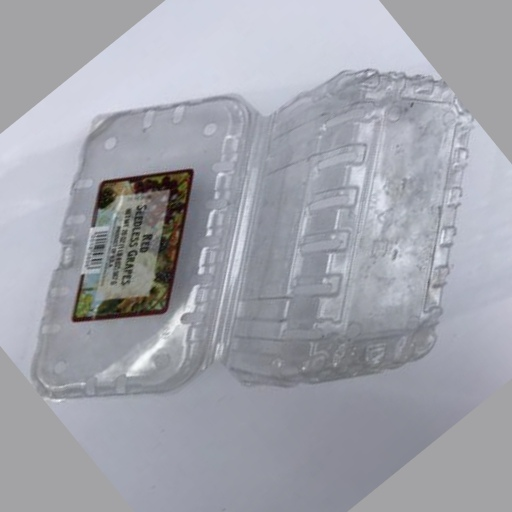Plastic_4: (32, 69, 471, 399)
